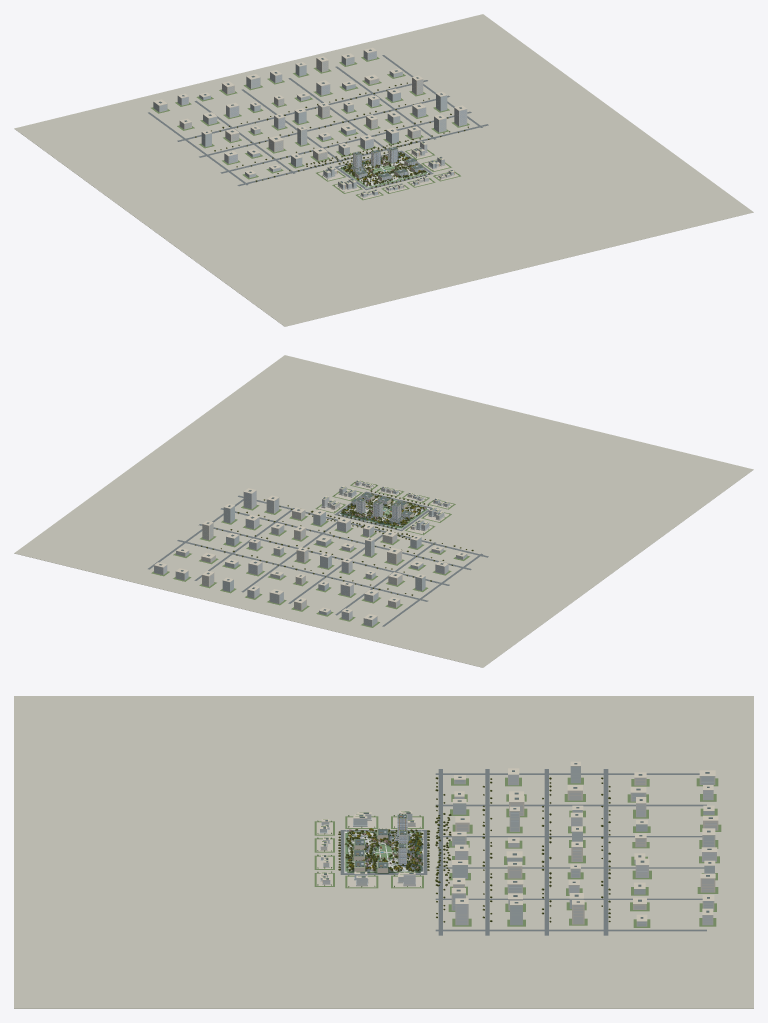
Rendered from campus.glb.
3 renders of one model, top to bottom at view 1: azimuth 30°, elevation 25°; view 2: azimuth 150°, elevation 25°; view 3: azimuth 270°, elevation 25°, orthographic. The views are drawn at different scales.
Visible parts, largest first — view 1: environment_paving, context_v26_road, context_v26_stone, context_v26_grass, context_v26_context1, context_v26_context3, context_v26_context0, context_v26_context2, context_v26_glass1, context_v26_glass0, context_v26_glass3, context_v26_glass2 (+5 smaller); view 2: environment_paving, context_v26_road, context_v26_stone, context_v26_grass, context_v26_context1, context_v26_context3, context_v26_context0, context_v26_context2, context_v26_glass1, context_v26_glass3, context_v26_glass0, context_v26_glass2 (+4 smaller); view 3: environment_paving, context_v26_road, context_v26_stone, context_v26_grass, context_v26_context3, context_v26_context1, environment_leavesCard, context_v26_context0, context_v26_context2, vegetation_v26_leavesCard, correction_v26_path, context_v26_glass0 (+8 smaller).
Part boxes in pixels (x1=…): environment_paving: x1=14, y1=14, x2=753, y2=326; context_v26_road: x1=148, y1=55, x2=488, y2=186; context_v26_stone: x1=153, y1=47, x2=466, y2=174; context_v26_grass: x1=151, y1=56, x2=469, y2=179; context_v26_context1: x1=177, y1=50, x2=467, y2=172; context_v26_context3: x1=179, y1=58, x2=423, y2=160; context_v26_context0: x1=153, y1=56, x2=446, y2=177; context_v26_context2: x1=199, y1=64, x2=447, y2=166; context_v26_glass1: x1=154, y1=52, x2=466, y2=176; context_v26_glass0: x1=160, y1=57, x2=445, y2=177; context_v26_glass3: x1=184, y1=61, x2=439, y2=165; context_v26_glass2: x1=178, y1=52, x2=458, y2=170; environment_paving: x1=14, y1=355, x2=753, y2=667; context_v26_road: x1=148, y1=495, x2=488, y2=626; context_v26_stone: x1=154, y1=488, x2=466, y2=619; context_v26_grass: x1=151, y1=505, x2=469, y2=627; context_v26_context1: x1=154, y1=490, x2=448, y2=620; context_v26_context3: x1=201, y1=510, x2=402, y2=610; context_v26_context0: x1=175, y1=498, x2=467, y2=626; context_v26_context2: x1=222, y1=506, x2=425, y2=615; context_v26_glass1: x1=155, y1=492, x2=466, y2=625; context_v26_glass3: x1=202, y1=507, x2=425, y2=613; context_v26_glass0: x1=176, y1=500, x2=462, y2=625; context_v26_glass2: x1=164, y1=491, x2=448, y2=619; environment_paving: x1=14, y1=696, x2=753, y2=1008; context_v26_road: x1=435, y1=769, x2=706, y2=935; context_v26_stone: x1=451, y1=761, x2=718, y2=921; context_v26_grass: x1=448, y1=777, x2=721, y2=927; context_v26_context3: x1=453, y1=777, x2=718, y2=924; context_v26_context1: x1=454, y1=774, x2=716, y2=925; environment_leavesCard: x1=338, y1=814, x2=451, y2=886; context_v26_context0: x1=451, y1=776, x2=715, y2=926; context_v26_context2: x1=452, y1=766, x2=714, y2=925; vegetation_v26_leavesCard: x1=347, y1=777, x2=610, y2=922; correction_v26_path: x1=316, y1=817, x2=421, y2=887; context_v26_glass0: x1=454, y1=778, x2=716, y2=923.
Bounding box in the file's own units: 3000 × 107 × 3000.
Materials: 53 (4 with a texture image).
